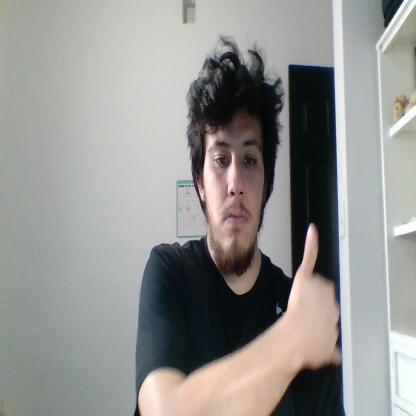Y: (288, 223, 342, 368)
